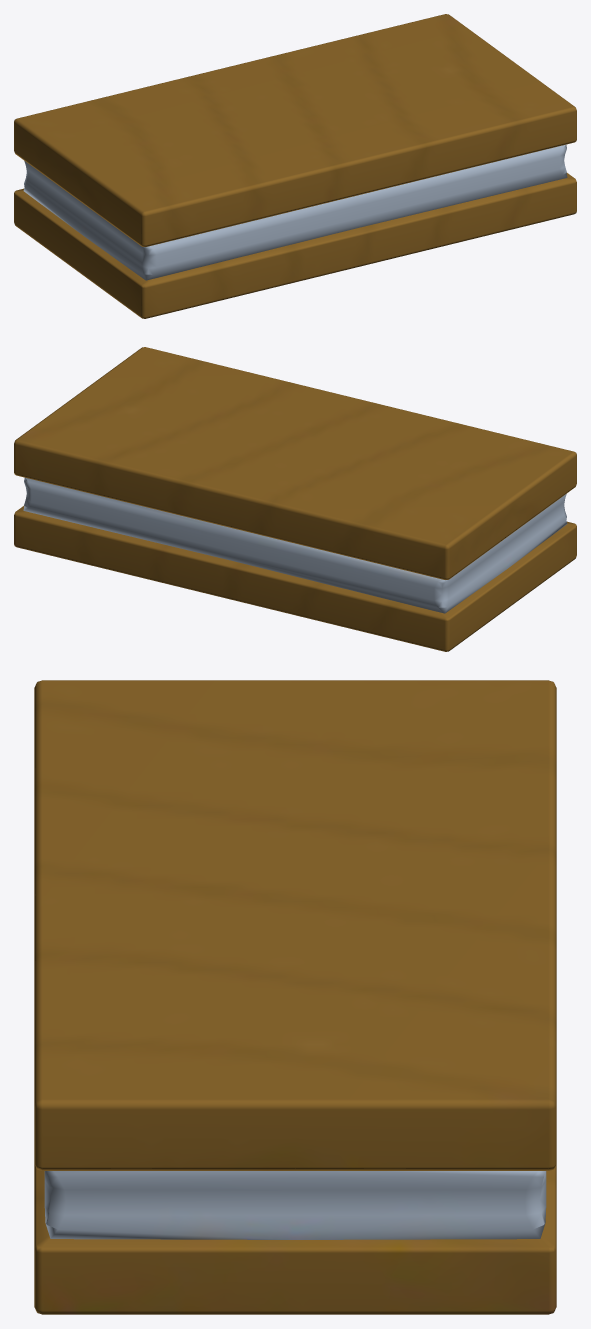
File: Uni_Table.fbx
3 views of the same model, one above another, from view 1: azimuth 30°, elevation 25°; view 2: azimuth 150°, elevation 25°; view 3: azimuth 270°, elevation 25° (orthographic). The views are drawn at different scales.
Visible parts, largest first — view 1: Table_3; view 2: Table_3; view 3: Table_3.
Part boxes in pixels (<box>): Table_3: <box>14,14,576,318</box>; Table_3: <box>14,347,576,651</box>; Table_3: <box>34,680,556,1314</box>.
Bounding box in the file's own units: 200 × 47.27 × 104.
Materials: 1 (1 with a texture image).
